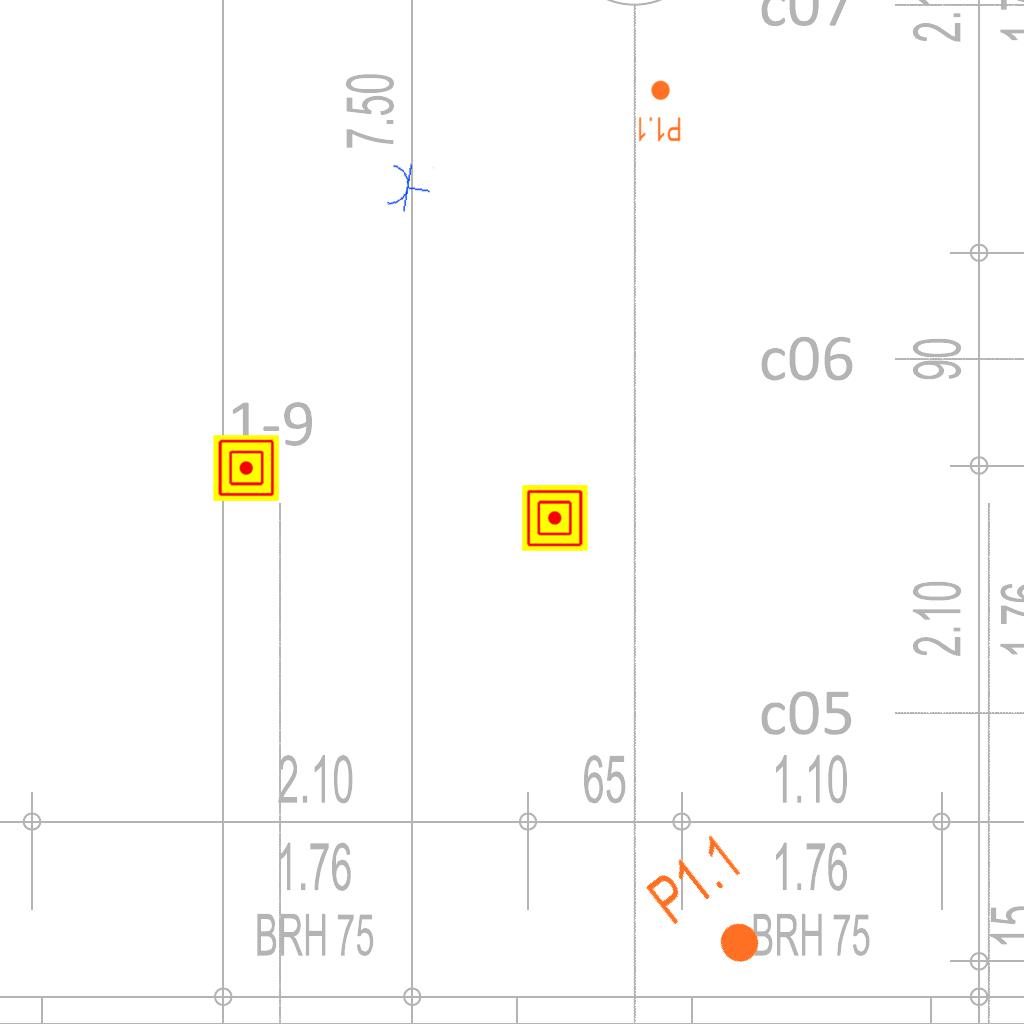Downlight_LED_Einbauleuchten_Flur: (640, 828, 793, 988), (636, 79, 682, 143)
NAM-Nichtautomatischer_Melder: (213, 435, 279, 501), (522, 485, 588, 551)
Schukosteckdose_einfach: (383, 159, 435, 216)
